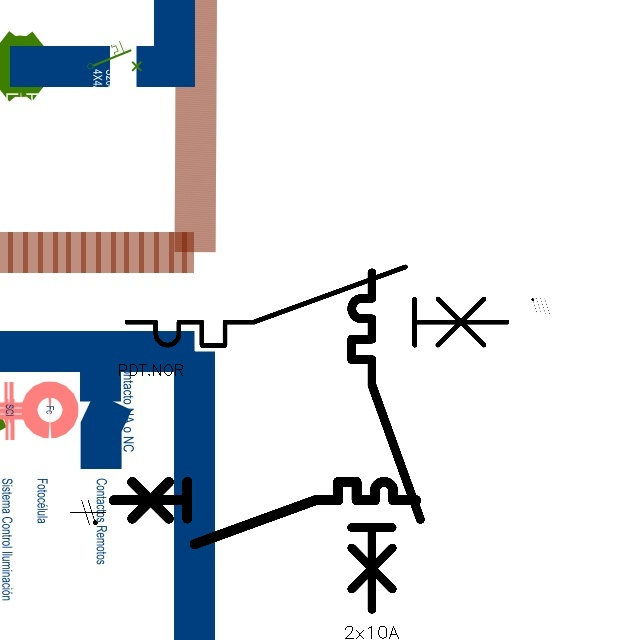interruptor_termomagnetico: (117, 257, 516, 355), (343, 264, 429, 618), (106, 474, 424, 552)
